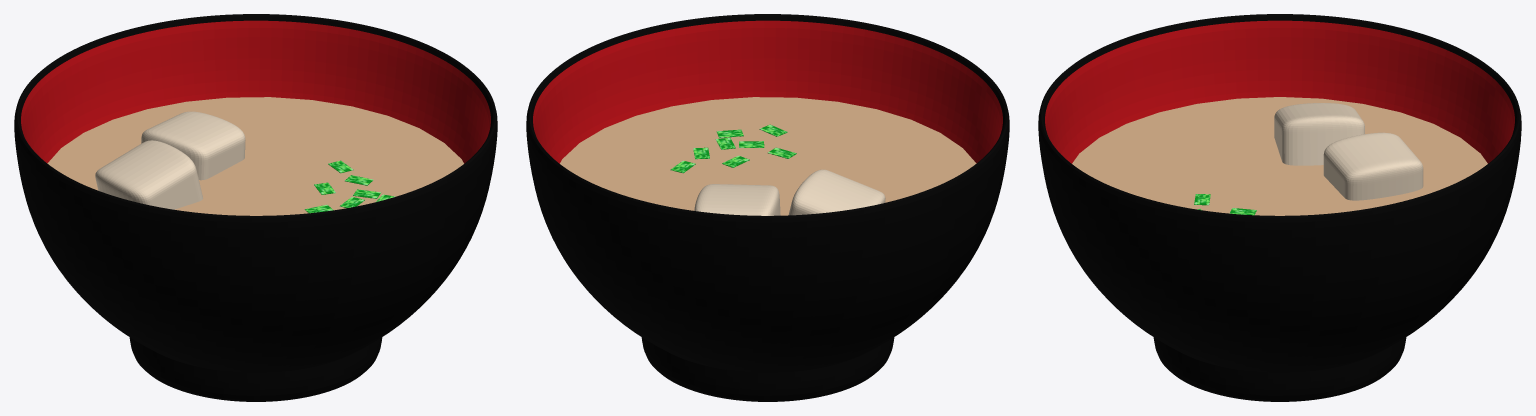
Rendered from Miso-soup.fbx.
The picture shows the model from 3 angles, left to right: view 1: azimuth 30°, elevation 25°; view 2: azimuth 150°, elevation 25°; view 3: azimuth 270°, elevation 25°; orthographic projection.
Visible parts, largest first — view 1: 구체.016; view 2: 구체.016; view 3: 구체.016.
Part boxes in pixels (<box>): 구체.016: <box>14,14,497,401</box>; 구체.016: <box>526,14,1009,401</box>; 구체.016: <box>1038,14,1521,401</box>.
Bounding box in the file's own units: 122 × 66.12 × 122.
